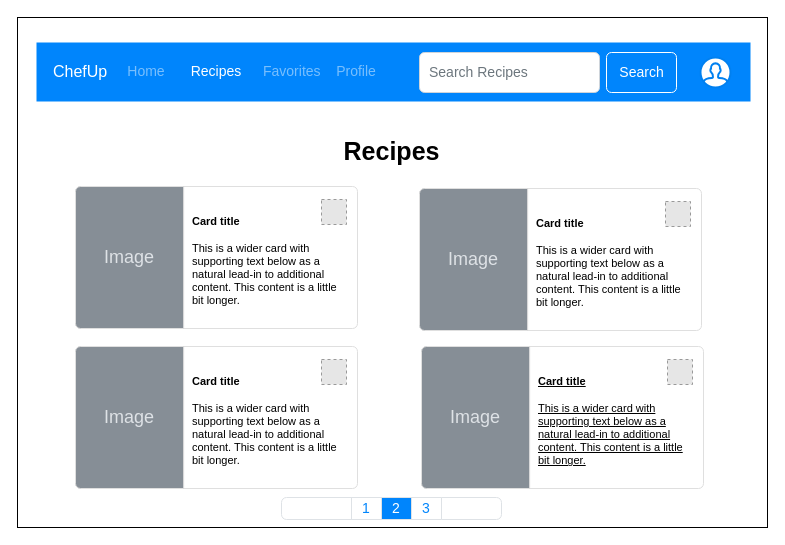
This 785x545 diagram has some shape labels left out. Grey dashed boxes stand in for pictures. Each missing label, with the centre of its shape:
Next: pixel 471 508
Previous: pixel 316 508
